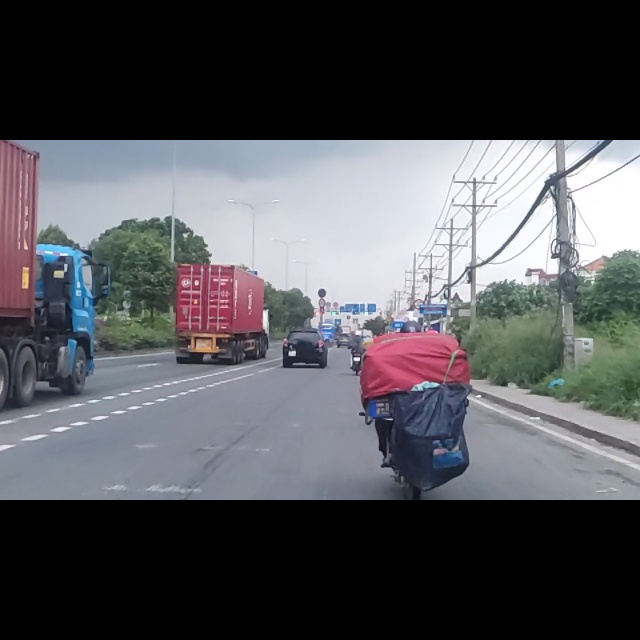bien_chi_dan: (317, 263, 328, 280)
